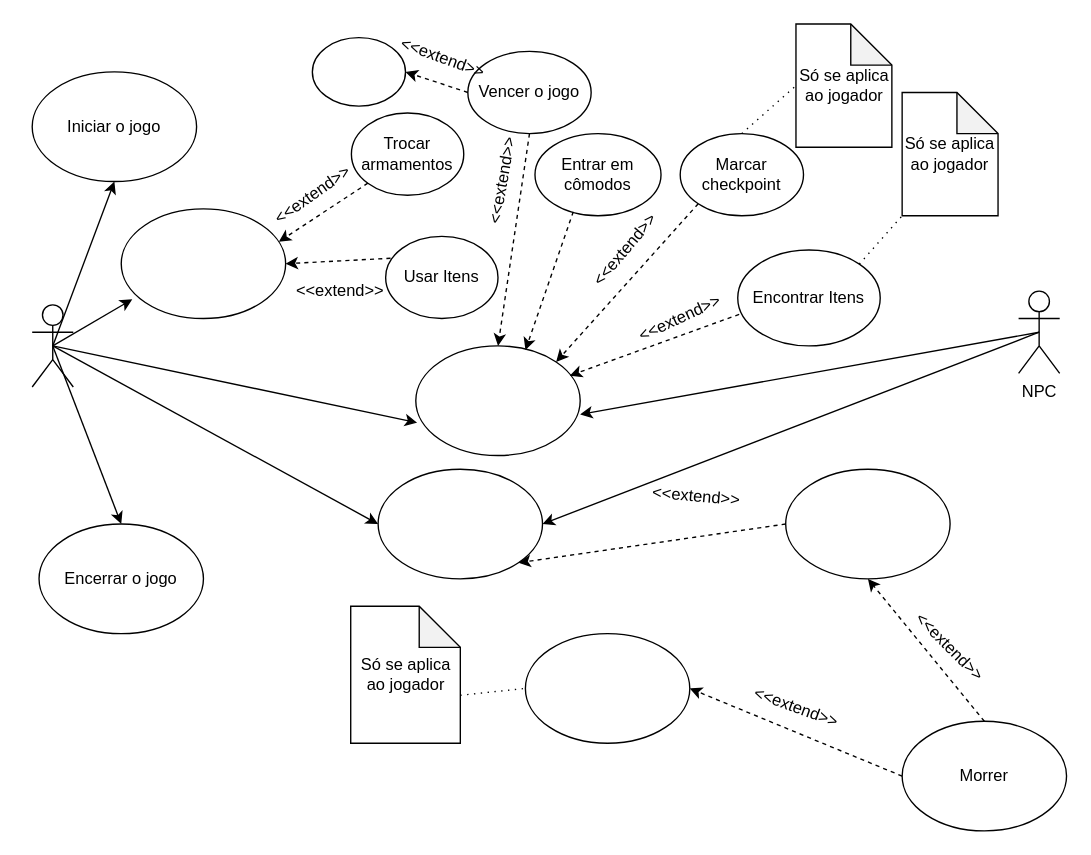
The diagram is 1091 pixels wide and 855 high, and some of its shapes have lost their labels. The shapes that lost their labels are listed below. From the top down, each one's centre as x and y in pixels, then its label:
pixel 358 71: Exibir créditos
pixel 203 263: Verificar Inventário
pixel 52 345: Jogador
pixel 497 400: Movimentar
pixel 460 523: Atacar
pixel 867 523: Perder vida
pixel 607 687: Renascer no checkpoint
